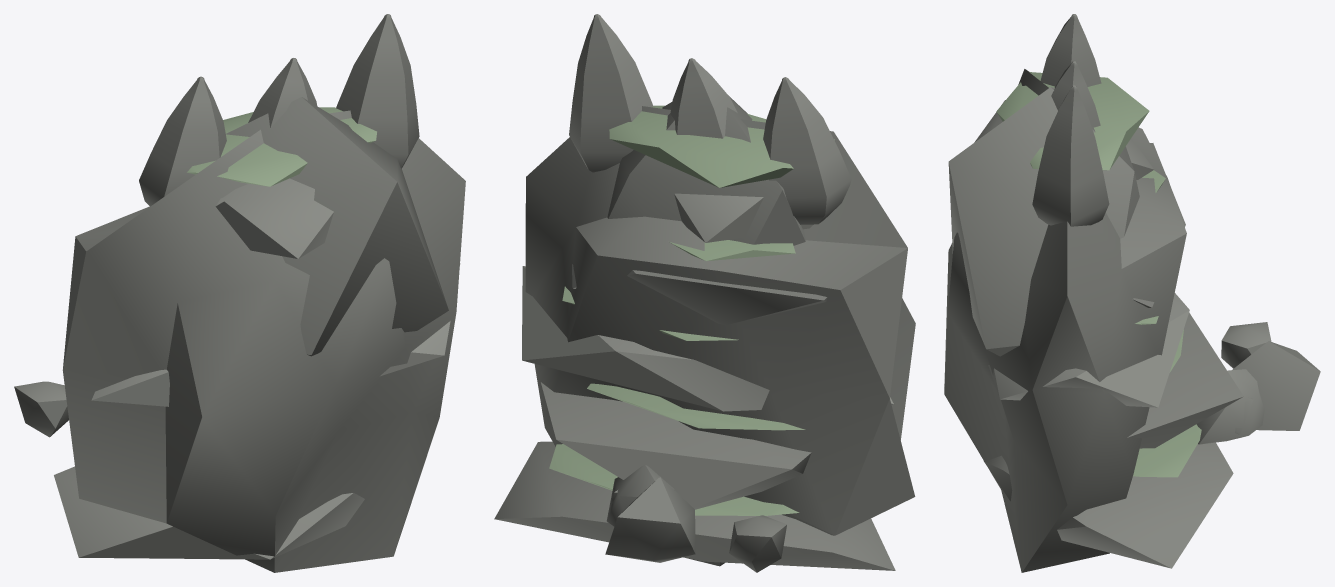
File: crag_moss.gltf
The picture shows the model from 3 angles, left to right: view 1: azimuth 30°, elevation 25°; view 2: azimuth 150°, elevation 25°; view 3: azimuth 270°, elevation 25°; orthographic projection. The views are drawn at different scales.
Visible parts, largest first — view 1: Body; view 2: Body; view 3: Body.
Boxes of the visible parts, bbox=[...] form: Body: bbox=[14, 14, 465, 572]; Body: bbox=[494, 14, 915, 572]; Body: bbox=[944, 14, 1320, 572].
Size of the model in its own units: 6.37 by 8.21 by 5.58.
